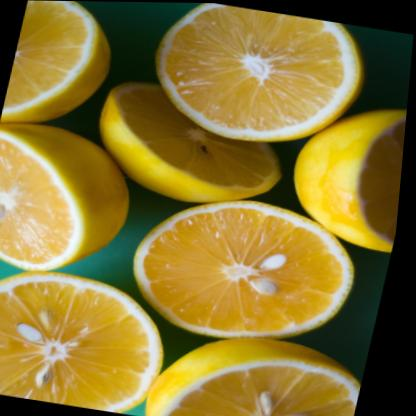--: (120, 181, 374, 359), (132, 2, 376, 160), (0, 247, 203, 416), (0, 106, 168, 298), (145, 309, 379, 416)
